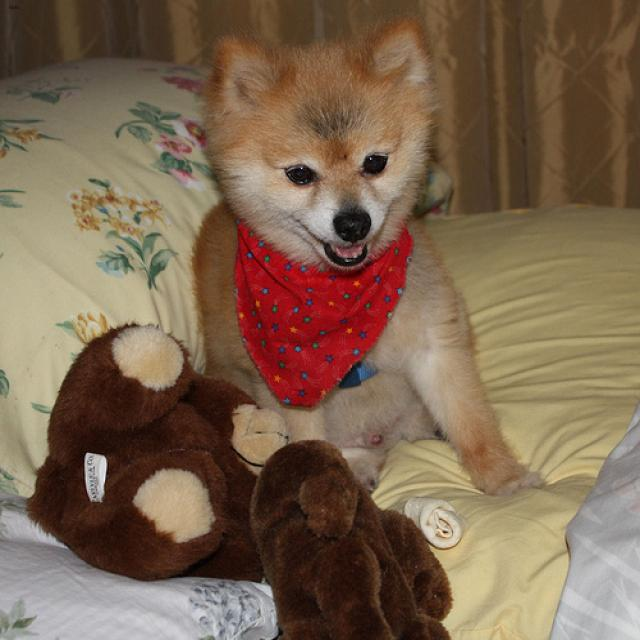dog-pomeranian: (178, 8, 562, 507)
